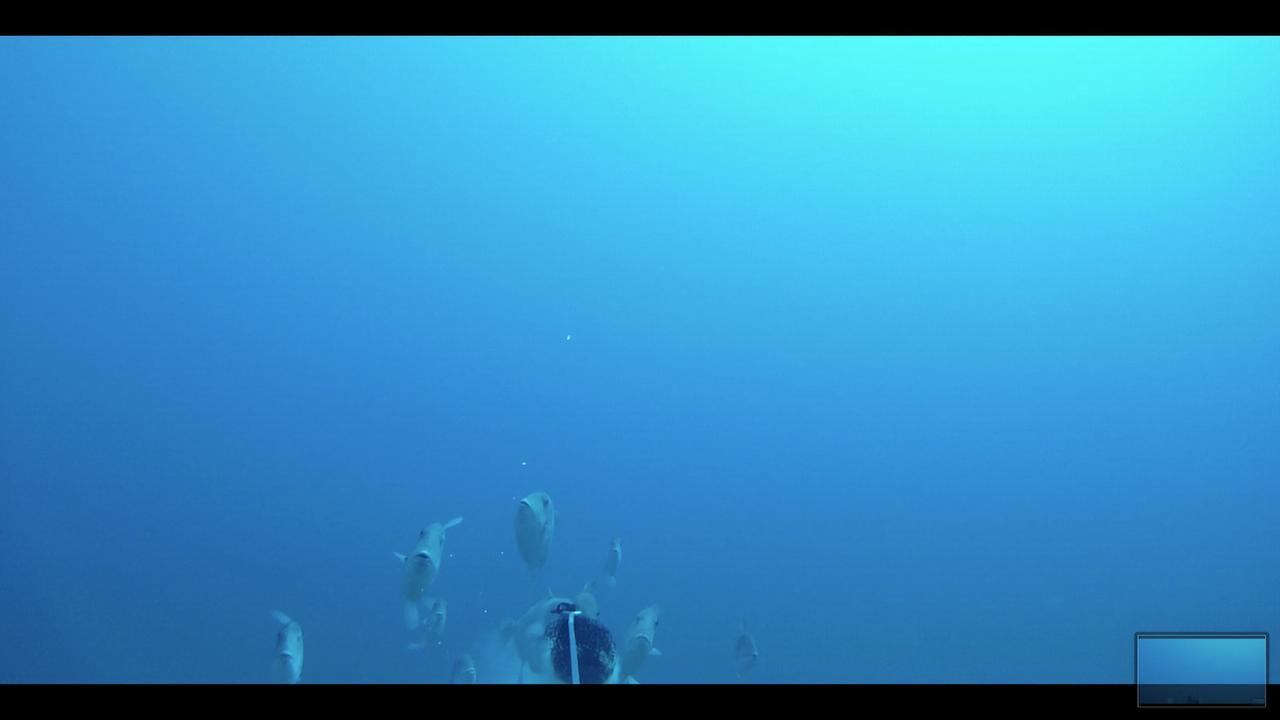balistes: (389, 502, 464, 634), (492, 583, 576, 674), (505, 486, 560, 576), (616, 600, 669, 682), (257, 600, 309, 682), (719, 618, 759, 674), (442, 648, 479, 680)
